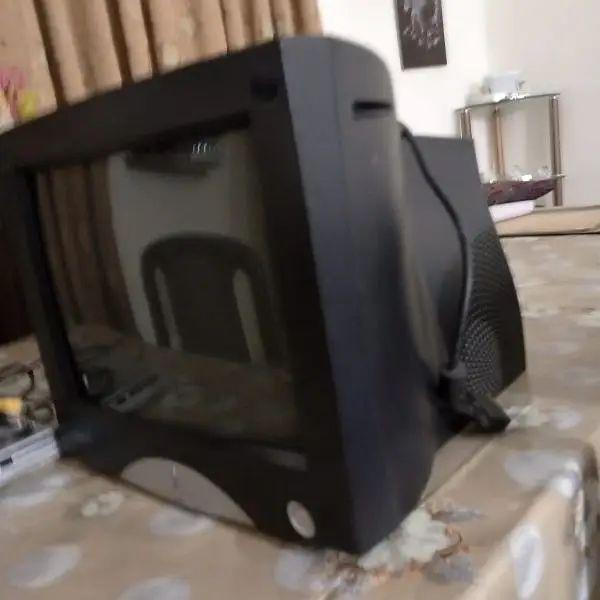electronic: (0, 27, 531, 561)
